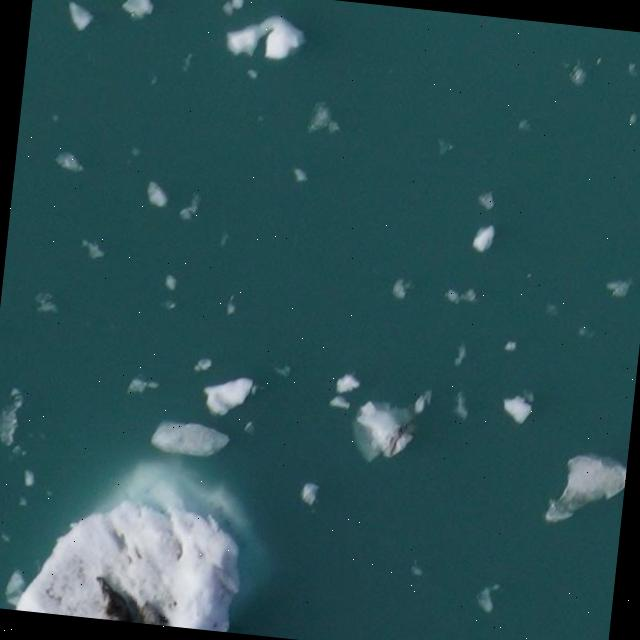seal: (96, 572, 135, 625), (137, 601, 172, 629)
